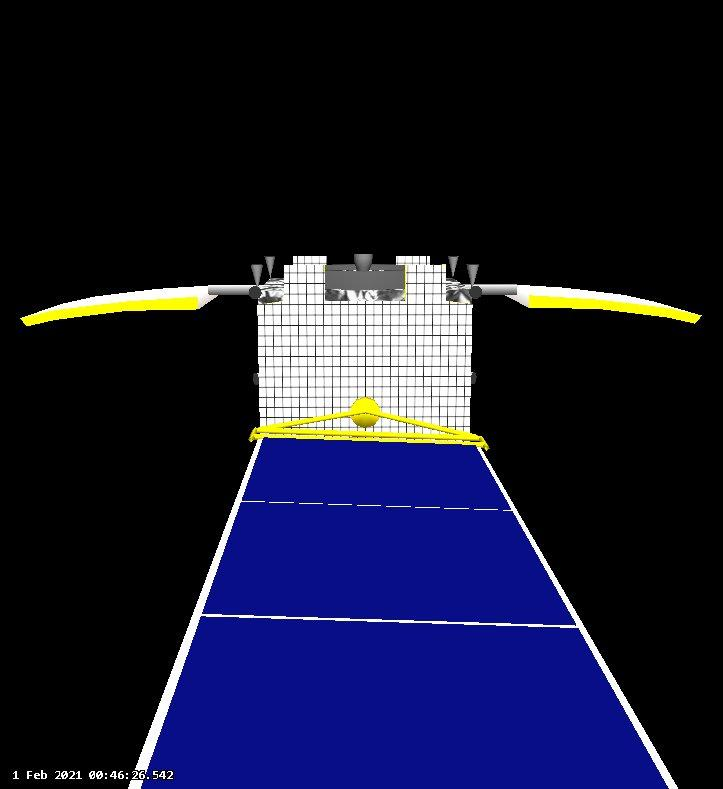antenna: (504, 279, 704, 329), (19, 282, 223, 328)
body: (255, 254, 475, 440)
solar: (124, 435, 684, 789)
thruster: (352, 252, 375, 272), (465, 262, 480, 288), (264, 255, 278, 280), (251, 264, 264, 286), (448, 254, 459, 278), (468, 285, 483, 301), (249, 285, 263, 301), (470, 370, 479, 388), (252, 372, 260, 387)
